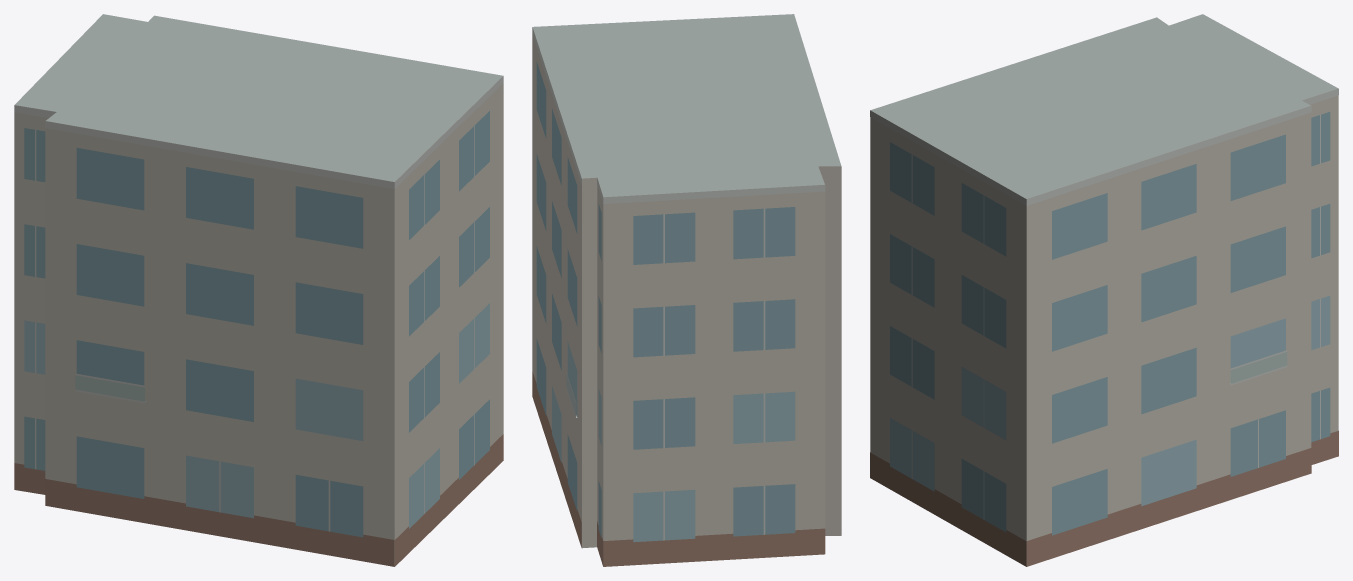
Rendered from survey-upis-33024242.glb.
The picture shows the model from 3 angles, left to right: view 1: azimuth 30°, elevation 25°; view 2: azimuth 150°, elevation 25°; view 3: azimuth 270°, elevation 25°; orthographic projection. The views are drawn at different scales.
Parts seen in each view (by area): view 1: survey-upis-33024242.tmp; view 2: survey-upis-33024242.tmp; view 3: survey-upis-33024242.tmp.
Part boxes in pixels (bbox=[...]): survey-upis-33024242.tmp: bbox=[14, 14, 503, 566]; survey-upis-33024242.tmp: bbox=[532, 14, 841, 566]; survey-upis-33024242.tmp: bbox=[870, 14, 1338, 566].
Bounding box in the file's own units: 14.26 × 13.2 × 15.25.
